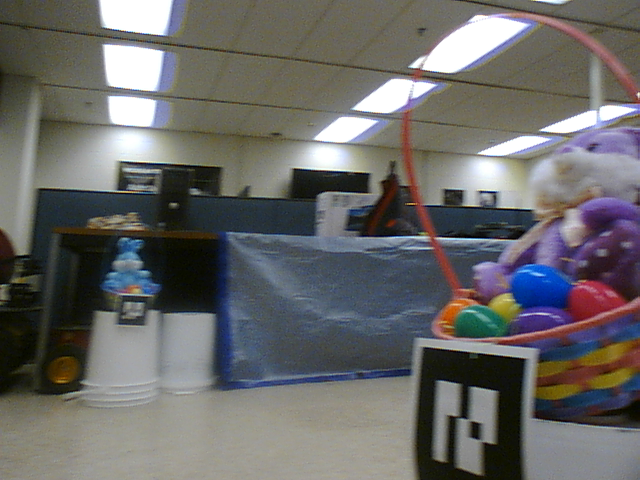bunny: (408, 15, 640, 412), (104, 219, 164, 305)
